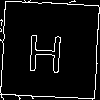H: (25, 25, 65, 73)
